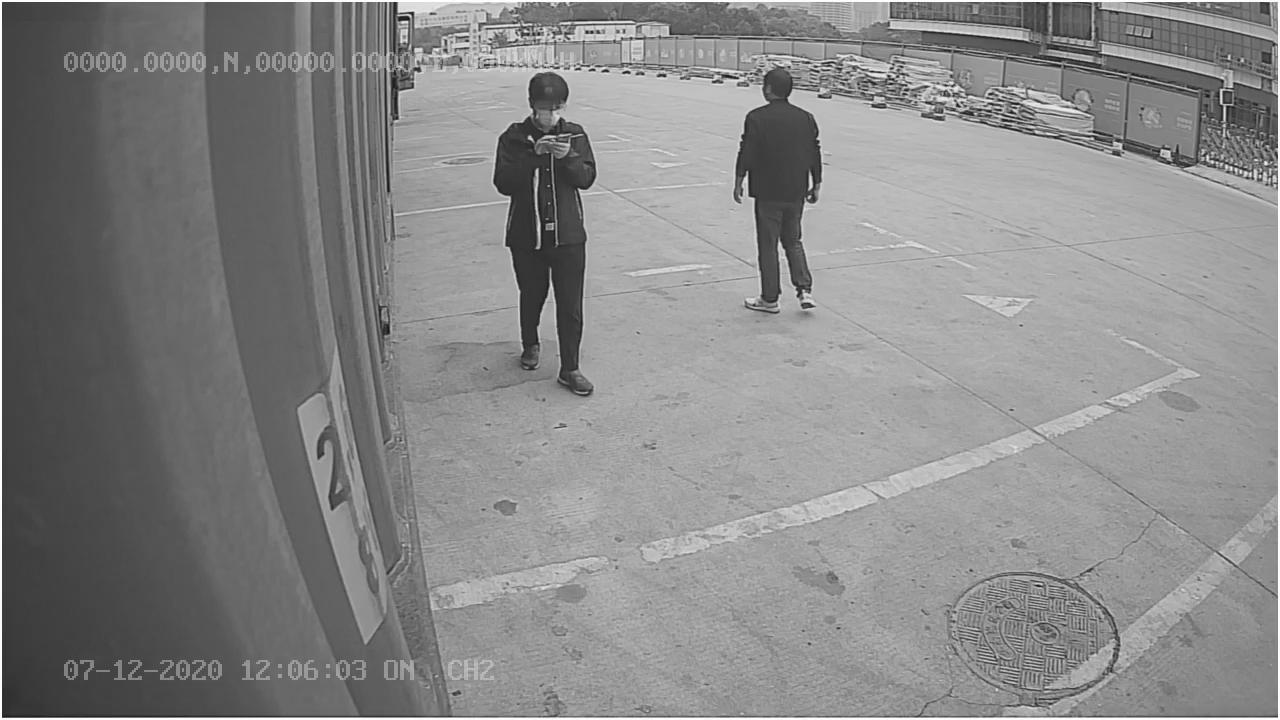person: (492, 68, 596, 394), (727, 59, 825, 323)
